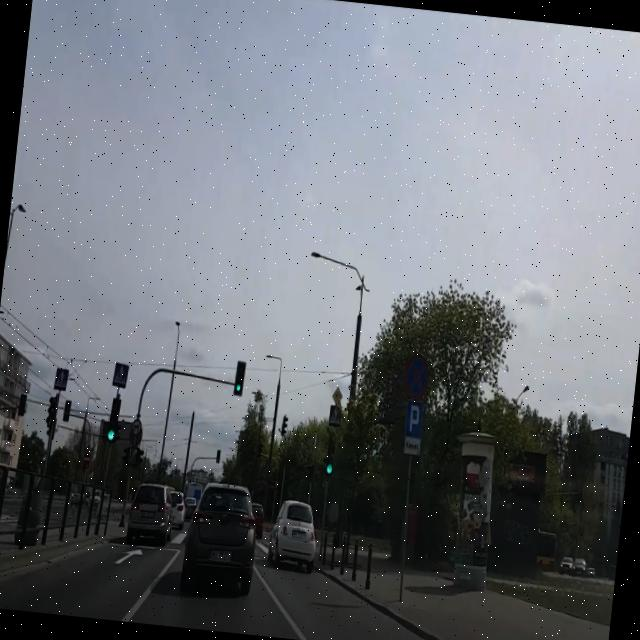Droga z pierwszenstwem: (330, 386, 342, 404)
Zakaz wjazdu: (81, 452, 91, 467)
Zakaz zatrzymywania sie: (402, 352, 430, 400)
